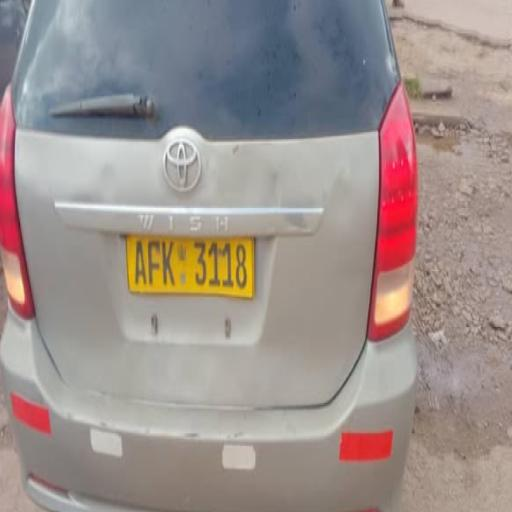number-plates: (128, 229, 247, 297)
